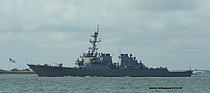MIL_Ship: (26, 24, 194, 78)
